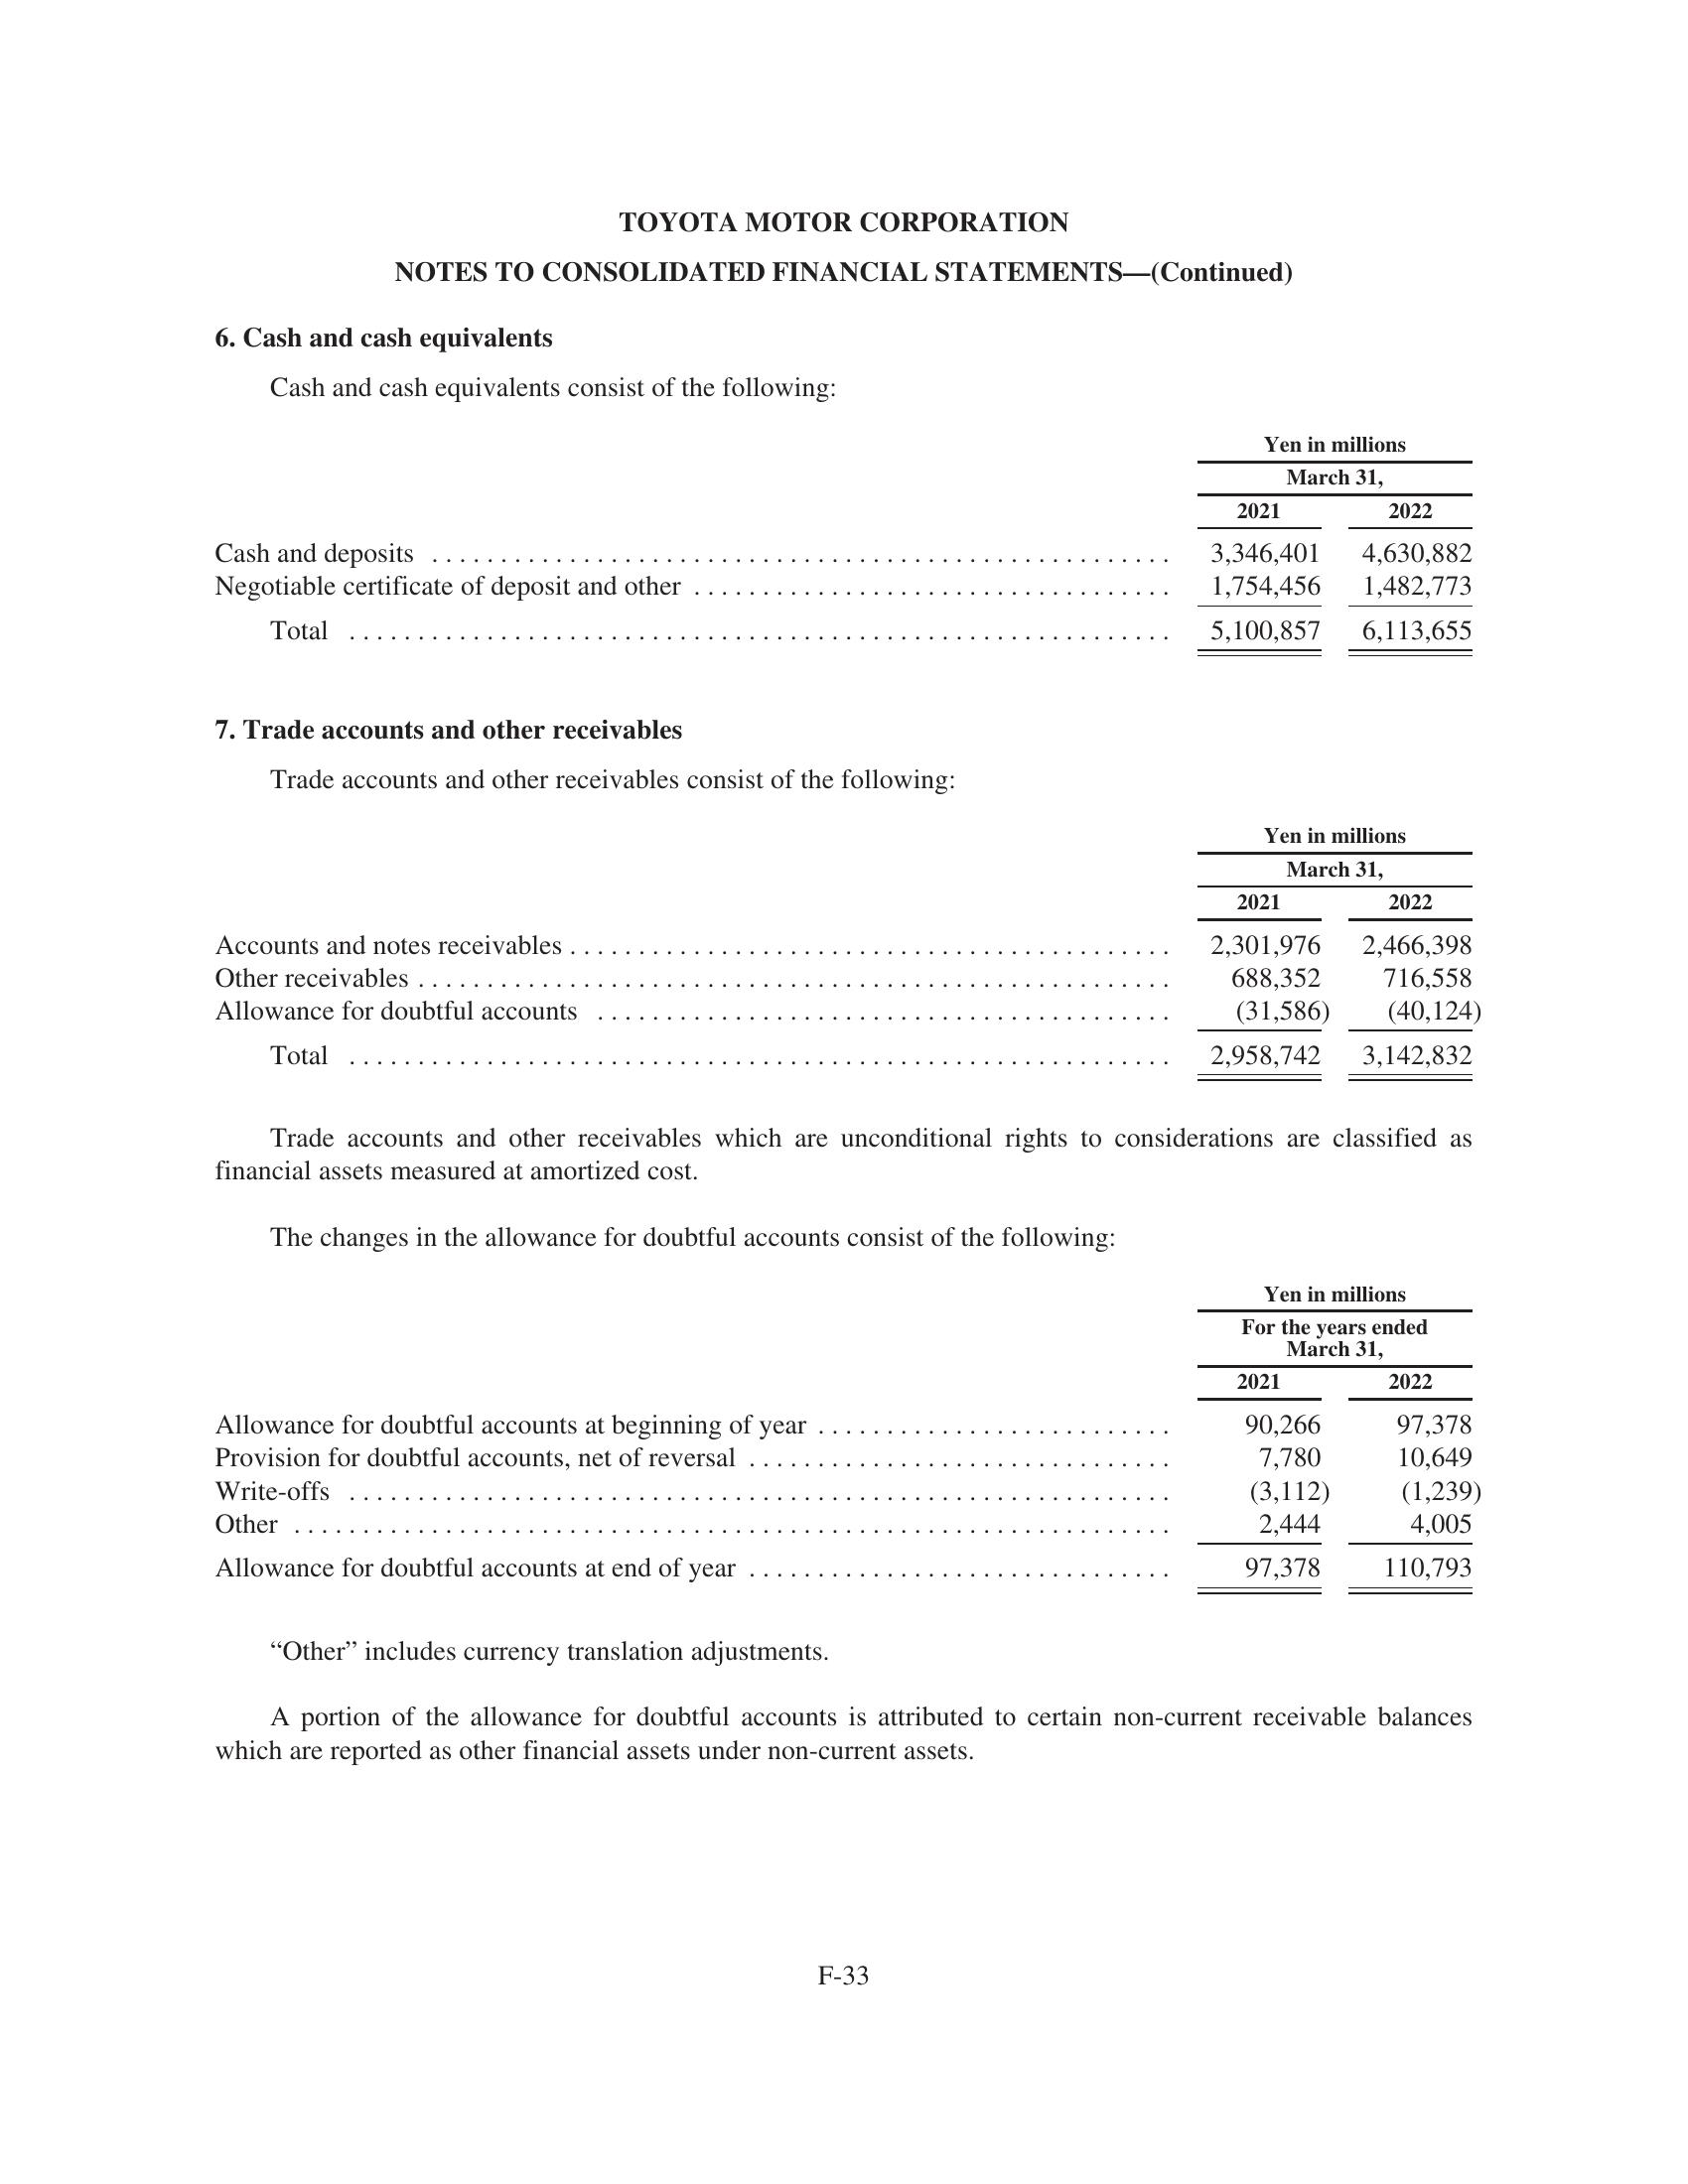Footer: (0, 1950, 1688, 2184)
Header: (0, 0, 1688, 188)
Table: (145, 1278, 1528, 1606), (137, 413, 1528, 698), (154, 817, 1509, 1081)
